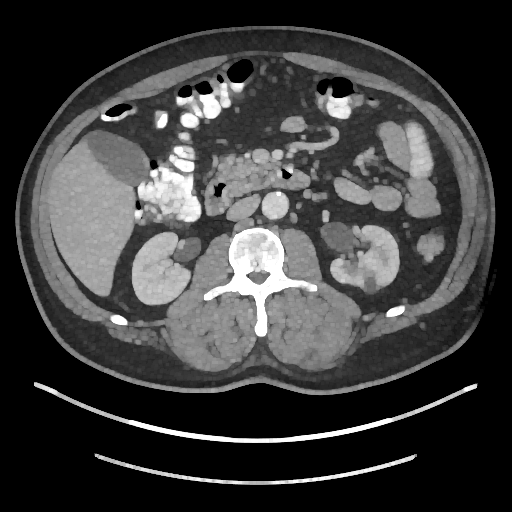Lesion: (363, 275, 381, 294)
